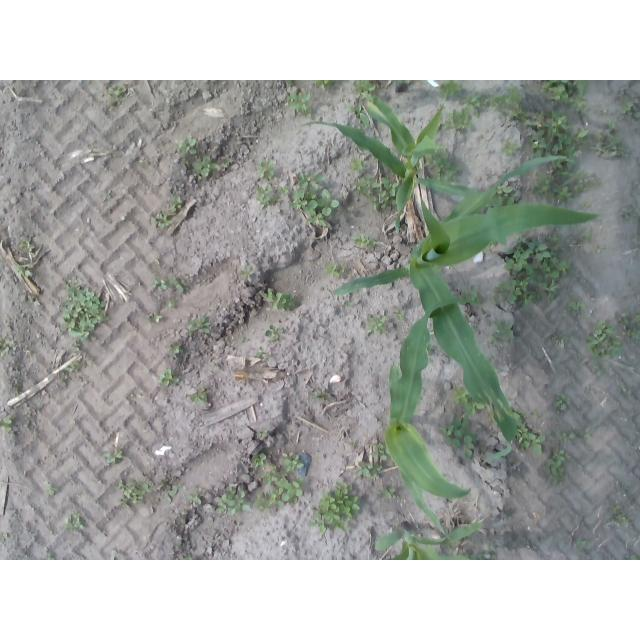Maize: (334, 155, 600, 465), (301, 93, 479, 236), (384, 300, 478, 541), (375, 522, 482, 560)
Weeds: (493, 232, 572, 312), (59, 275, 111, 342), (309, 480, 361, 537), (526, 111, 590, 157), (294, 169, 343, 228), (530, 163, 602, 199), (257, 465, 308, 514), (118, 478, 182, 508), (541, 80, 591, 116), (441, 415, 479, 461), (353, 175, 396, 213), (587, 319, 625, 361), (490, 86, 530, 123), (591, 120, 629, 158), (216, 484, 253, 517), (543, 448, 569, 486), (259, 287, 297, 312), (517, 426, 547, 455), (254, 184, 290, 208), (149, 275, 188, 296), (286, 90, 314, 118), (442, 108, 473, 133), (462, 91, 486, 120), (619, 312, 640, 344), (281, 452, 307, 475), (492, 319, 515, 345), (192, 155, 219, 177), (364, 314, 388, 338), (176, 134, 200, 156), (470, 544, 502, 560), (257, 159, 280, 181), (186, 316, 211, 336), (439, 81, 465, 100), (355, 461, 382, 479), (349, 103, 370, 126), (190, 384, 211, 407), (66, 511, 87, 534), (461, 282, 481, 306), (353, 80, 375, 101), (617, 102, 640, 122), (151, 213, 178, 230), (606, 506, 630, 525), (108, 86, 129, 107), (548, 429, 576, 444), (157, 368, 180, 386), (104, 447, 125, 465), (190, 484, 206, 507), (553, 395, 572, 414), (441, 166, 463, 182), (238, 265, 257, 283), (453, 384, 470, 404), (353, 233, 376, 247), (1, 338, 16, 359), (433, 154, 455, 168), (349, 155, 366, 173), (502, 138, 521, 154), (265, 324, 284, 340), (370, 441, 386, 460), (324, 262, 344, 277), (464, 401, 485, 415), (20, 236, 37, 253), (251, 453, 268, 470), (167, 195, 183, 213), (165, 343, 184, 358), (579, 225, 594, 244), (15, 263, 33, 278), (313, 81, 337, 92), (380, 485, 397, 500), (1, 417, 16, 431), (314, 386, 327, 402), (515, 409, 526, 427), (258, 430, 272, 444), (619, 207, 634, 220), (41, 548, 57, 560), (46, 482, 57, 499), (255, 346, 270, 358), (147, 313, 165, 323), (498, 185, 514, 196), (65, 361, 81, 372), (552, 334, 568, 345), (396, 304, 407, 320), (208, 360, 222, 372), (103, 187, 114, 202), (68, 342, 82, 353), (571, 299, 585, 310), (28, 296, 41, 307), (580, 428, 593, 439), (620, 385, 634, 395), (590, 365, 602, 376), (596, 246, 609, 256), (24, 405, 34, 418), (617, 89, 628, 100), (225, 156, 234, 168), (168, 300, 180, 309), (58, 371, 68, 381), (577, 537, 587, 547), (578, 200, 590, 208), (13, 383, 21, 394), (532, 410, 540, 421), (351, 442, 361, 450), (184, 554, 197, 560), (551, 234, 560, 242), (242, 336, 251, 344), (138, 157, 148, 164), (37, 397, 44, 407), (586, 387, 597, 393), (287, 80, 298, 86), (625, 555, 638, 560), (178, 515, 186, 521), (345, 302, 353, 307), (122, 215, 126, 223)
